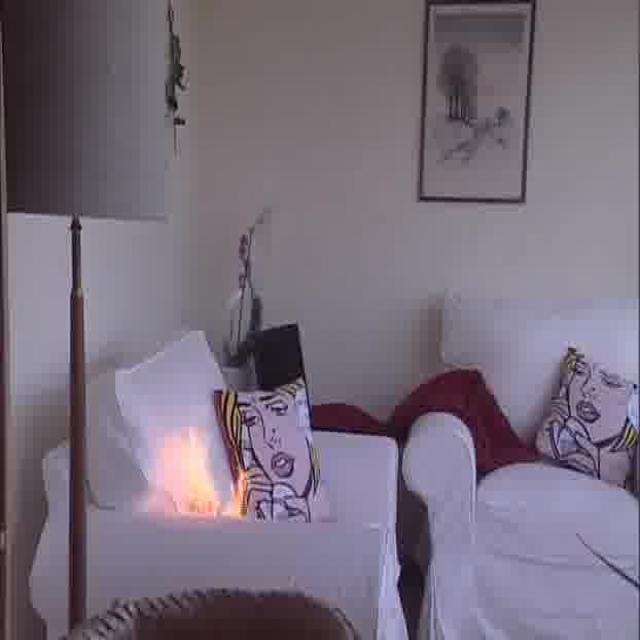Fire: (152, 433, 266, 513)
